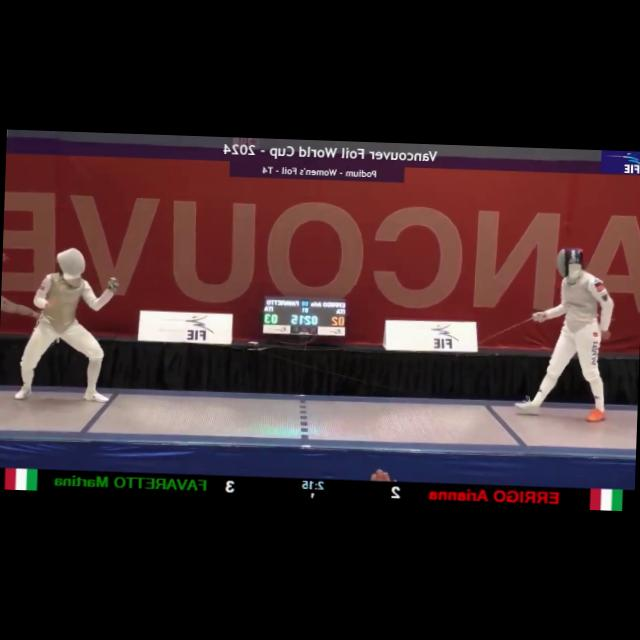blade: (454, 308, 538, 359)
